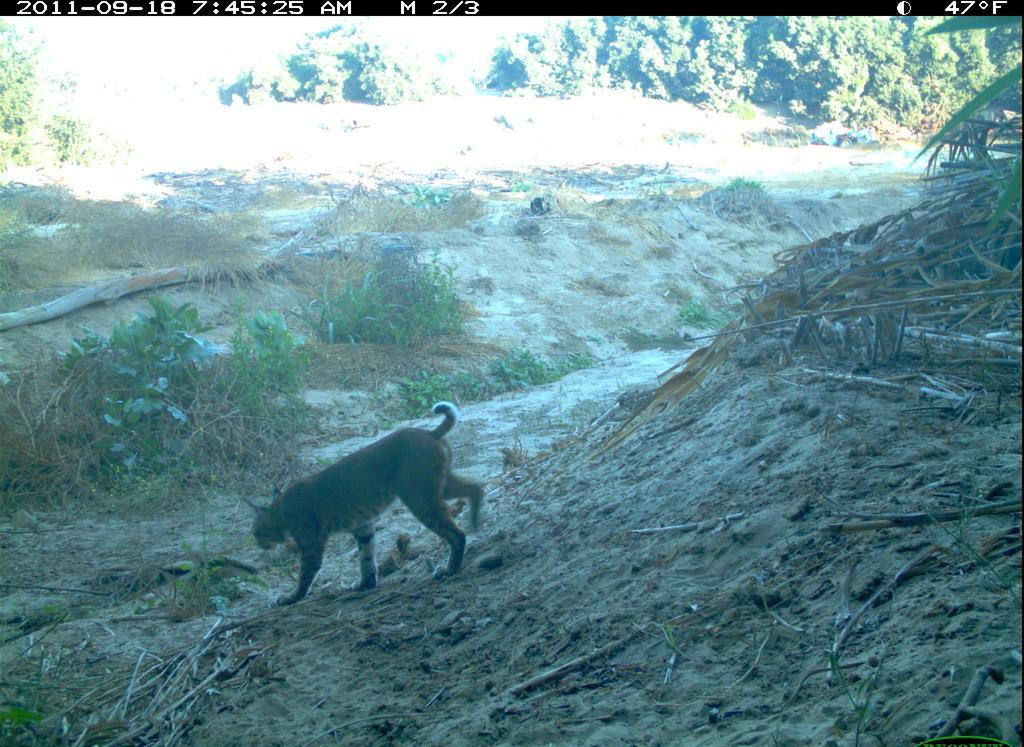bobcat: (242, 393, 484, 614)
